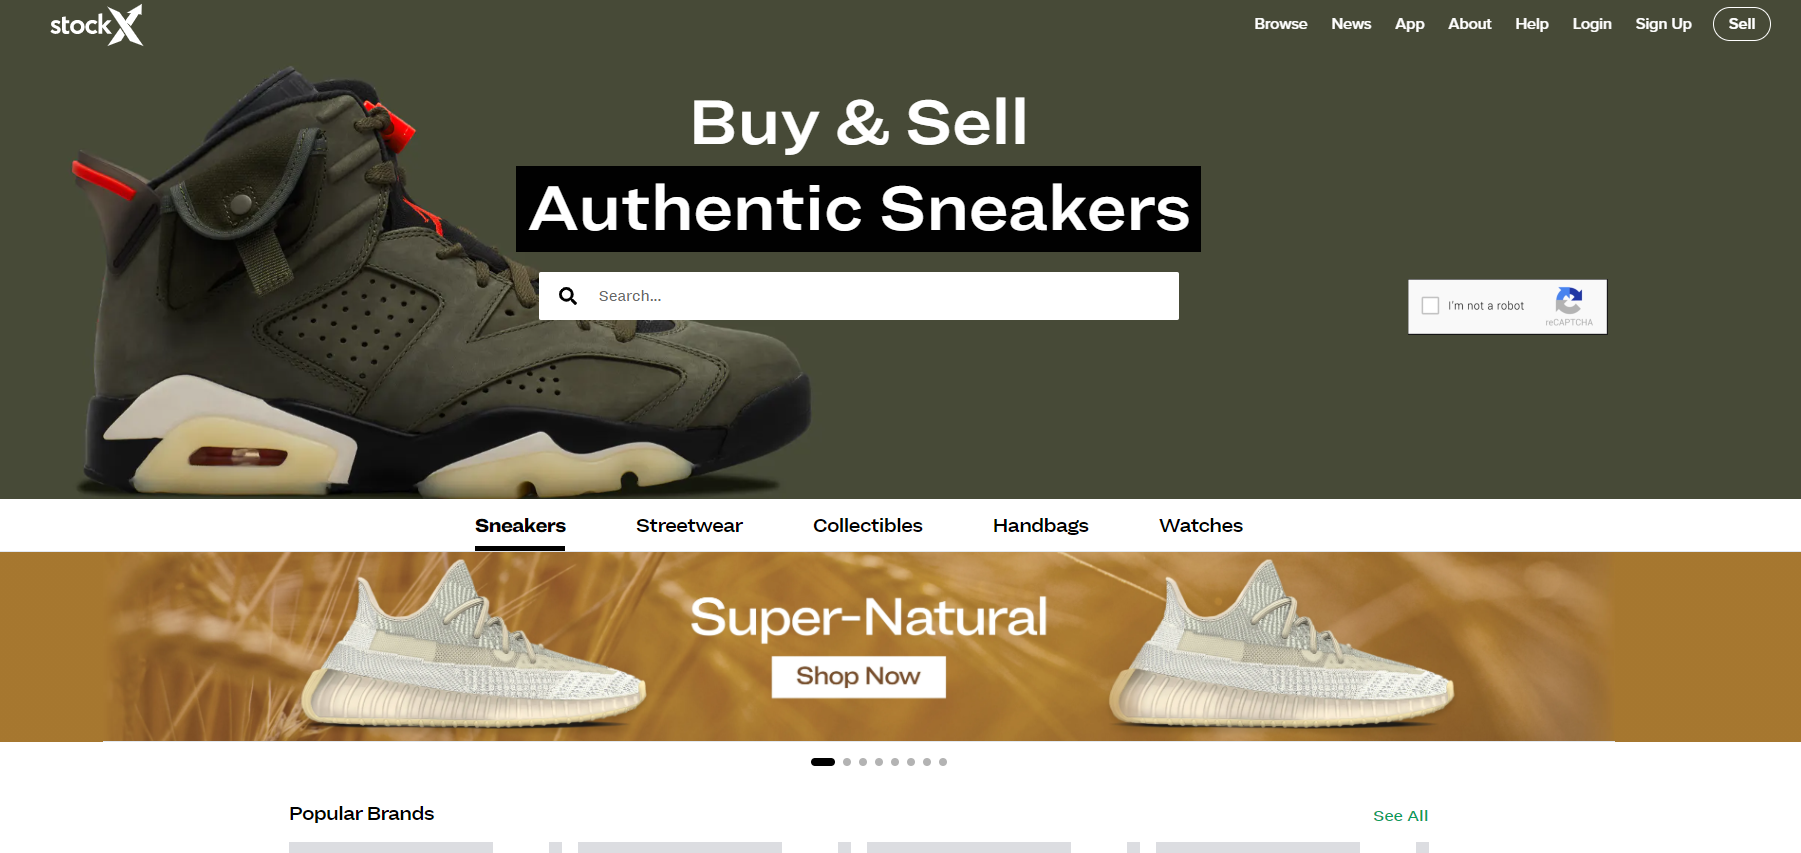captcha: (1390, 271, 1629, 344)
